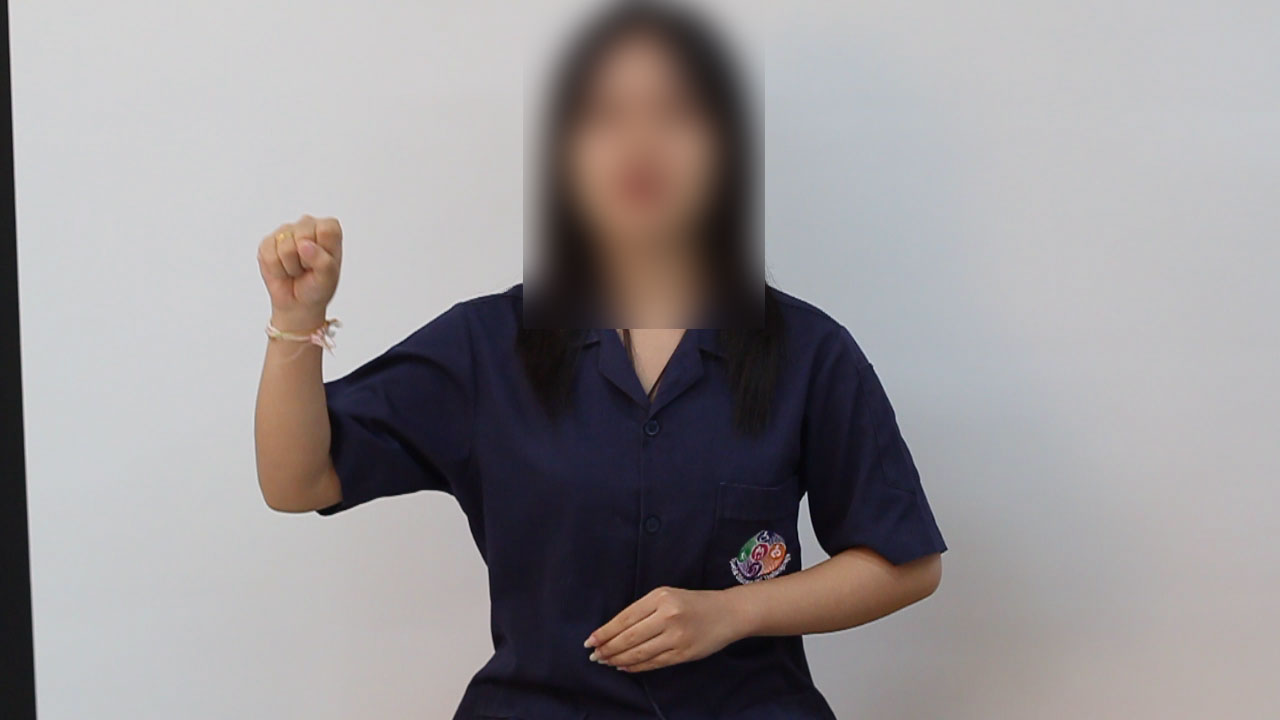sor: (244, 191, 354, 343)
